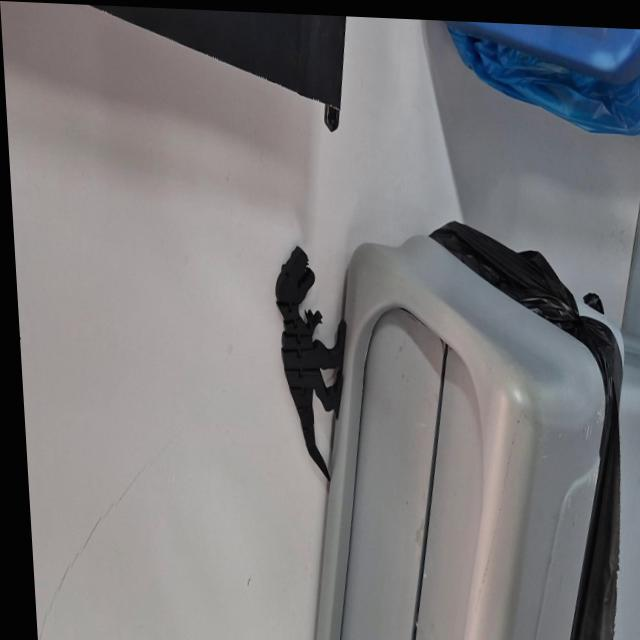dino: (272, 242, 356, 484)
